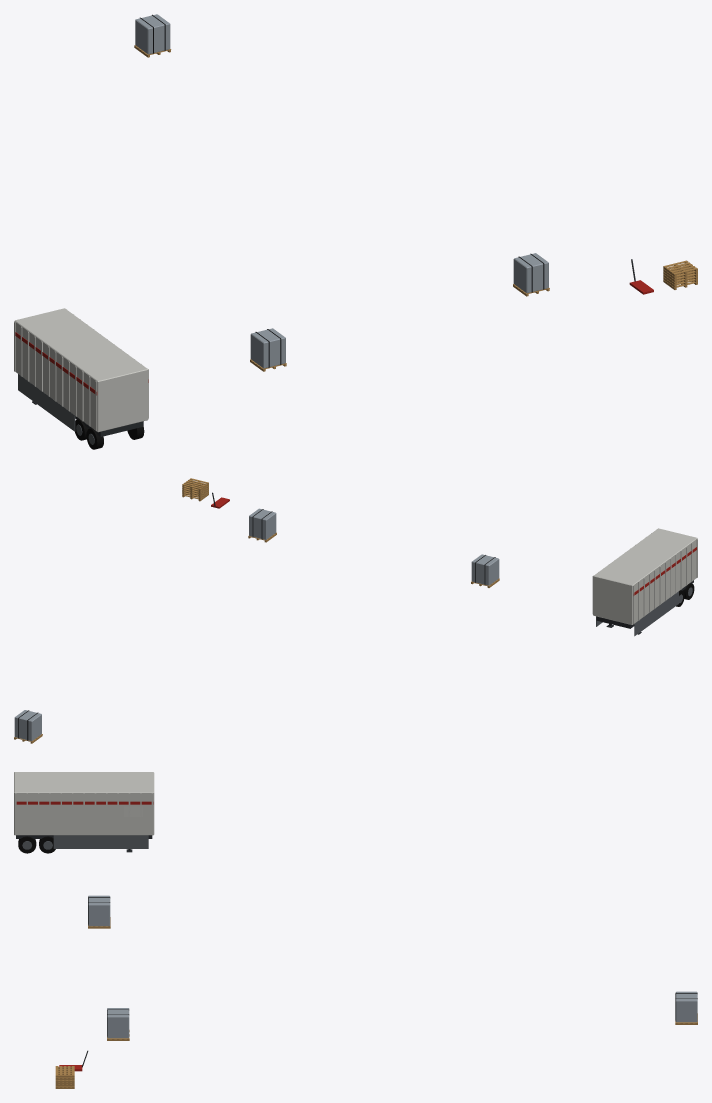
Rendered from dp-bay.glb.
3 views of the same model, one above another, from view 1: azimuth 30°, elevation 25°; view 2: azimuth 150°, elevation 25°; view 3: azimuth 270°, elevation 25° (orthographic). The views are drawn at different scales.
Visible parts, largest first — view 1: dp-bay; view 2: dp-bay; view 3: dp-bay.
Part boxes in pixels (x1,y1,x2,y2): dp-bay: (14, 14, 697, 449); dp-bay: (14, 478, 697, 743); dp-bay: (14, 772, 697, 1088).
Bounding box in the file's own units: 31.94 × 3.6 × 36.1.
